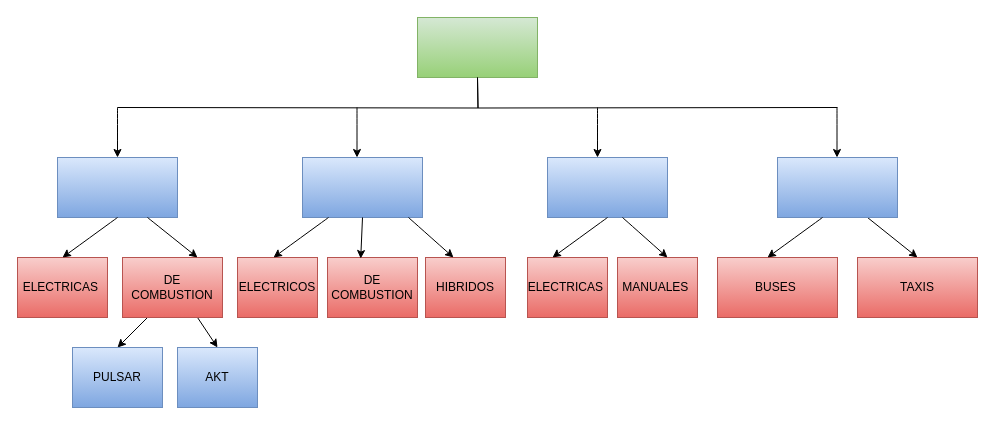
The diagram is 995 pixels wide and 425 high, and some of its shapes have lost their labels. The shapes that lost their labels are listed below. From the top down, each one's centre as x and y in pixels, then its label:
At (477,47): "MOVILIDAD Raiz".
At (117,187): "MOTOS".
At (362,187): "CARROS".
At (607,187): "BICICLETAS".
At (837,187): "TRANSPORTE PUBLICO".
